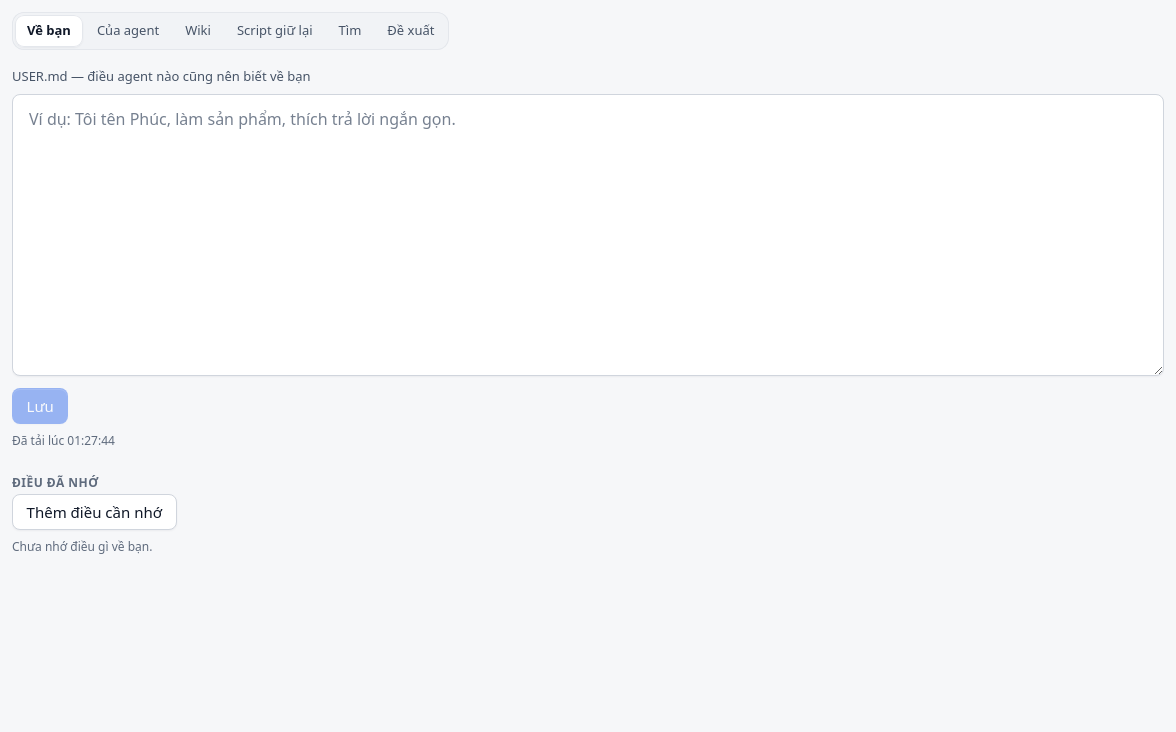
Test: MemoryPanel › says so when a consolidation is already running
Click the tab "Của agent": [128, 31] box [85,15,171,47]
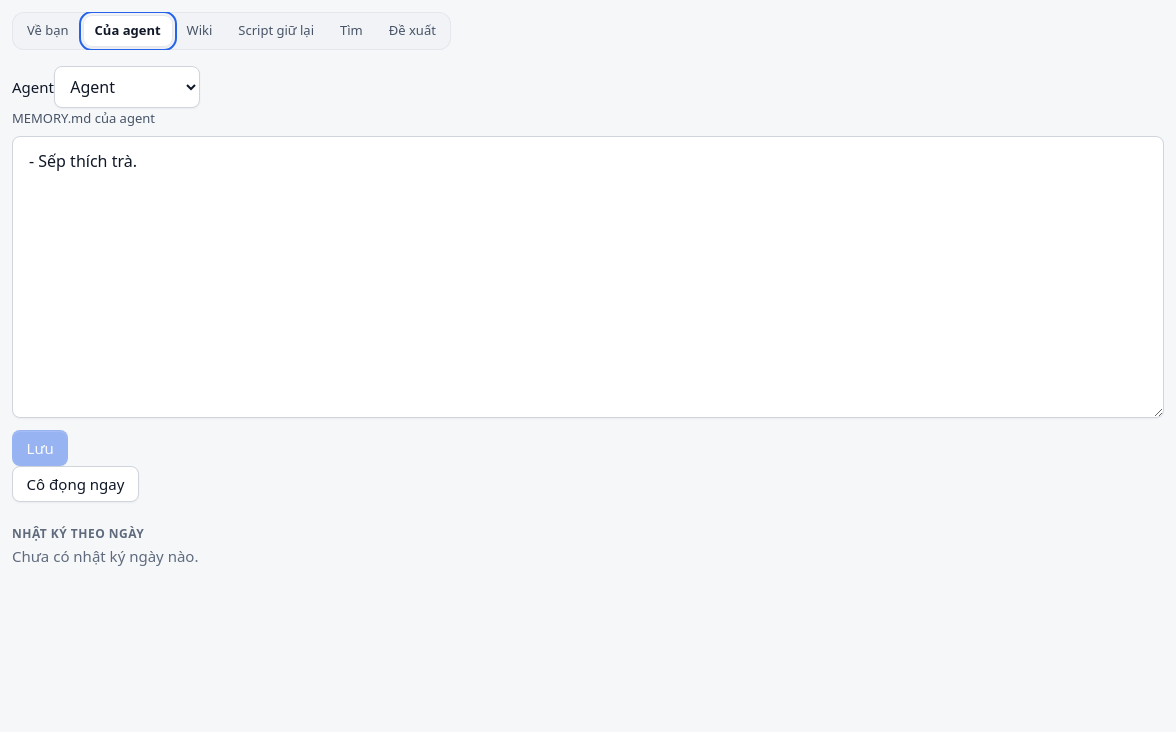
Click the button "Cô đọng ngay": [75, 484] box [12,466,139,502]
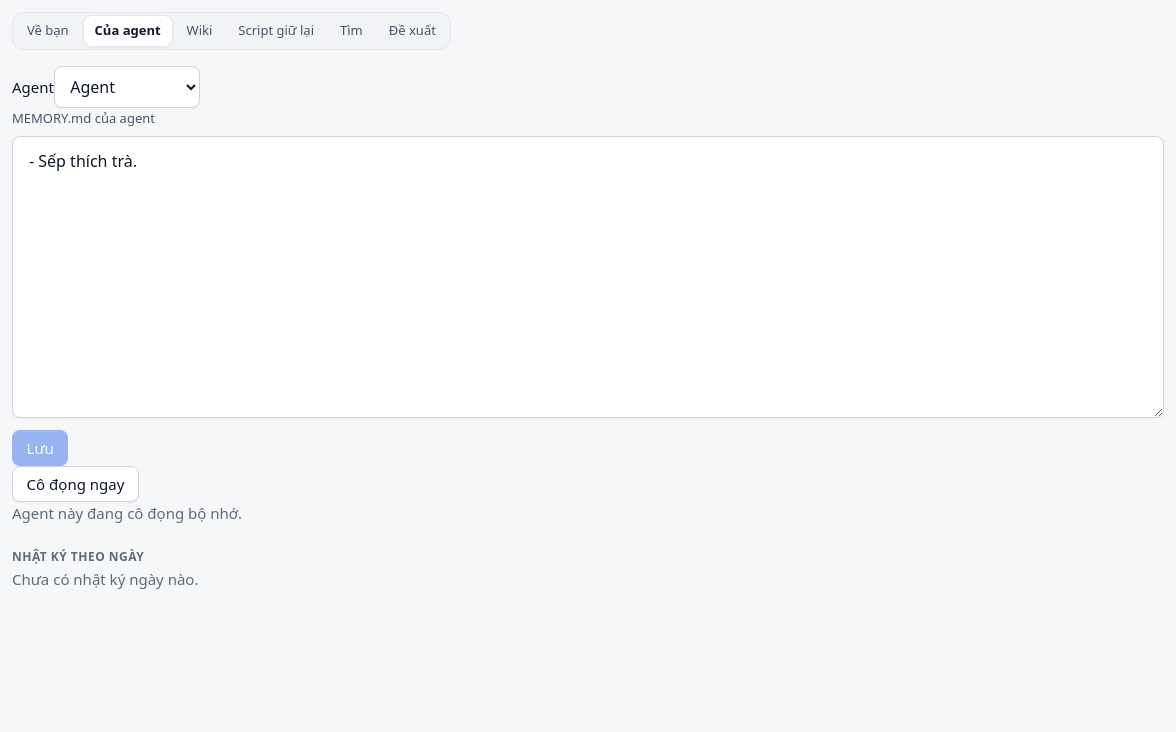
Result: the text "Agent này đang cô đọng bộ nhớ." is shown at [12,503,242,523]
